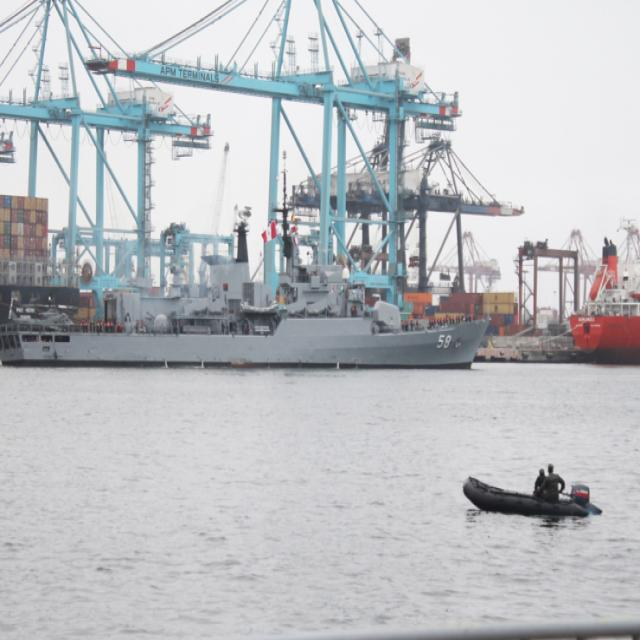Fragata: (7, 139, 495, 373)
